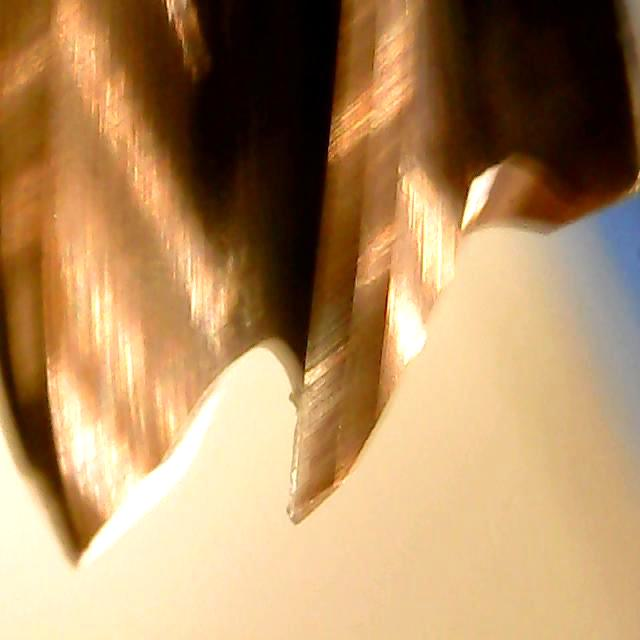Tool-wear-class-1: (284, 272, 412, 528)
